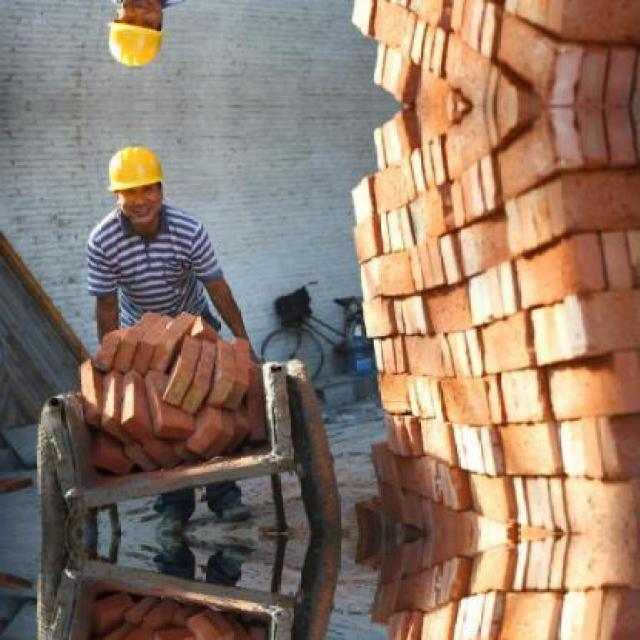hat: (103, 133, 166, 200)
